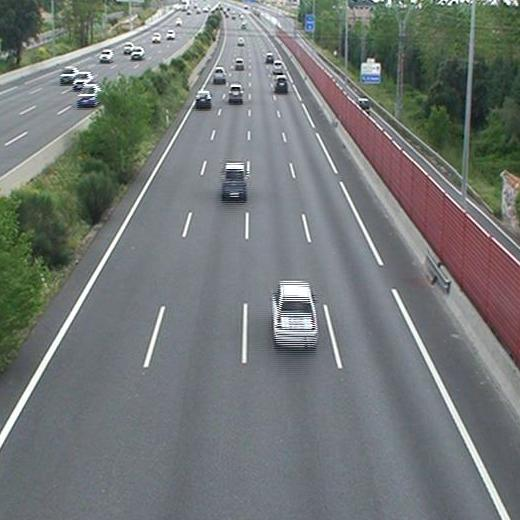car: (272, 282, 318, 346), (223, 165, 246, 198), (228, 85, 243, 102), (195, 92, 211, 106), (276, 76, 288, 92), (213, 68, 225, 81), (272, 61, 283, 72), (234, 59, 243, 68)
